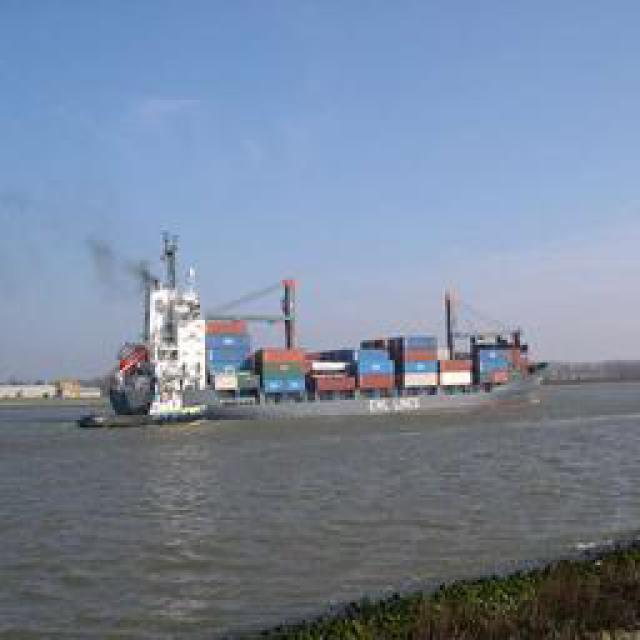Ship: (73, 212, 555, 436)
